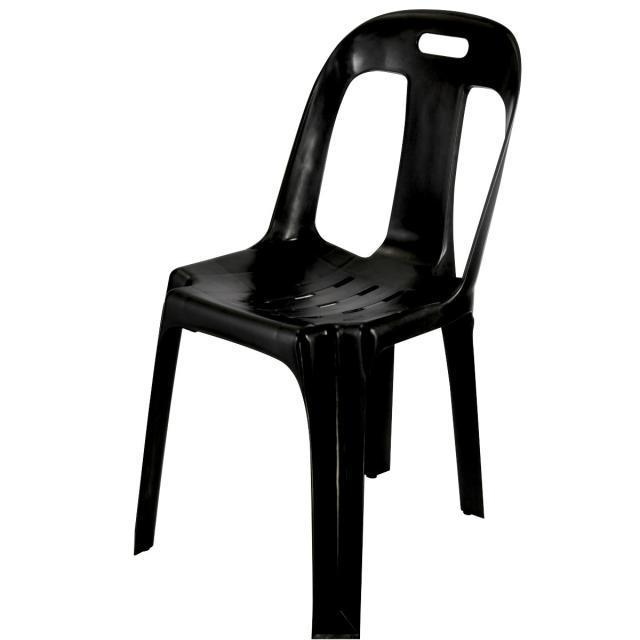chair: (100, 6, 526, 640)
